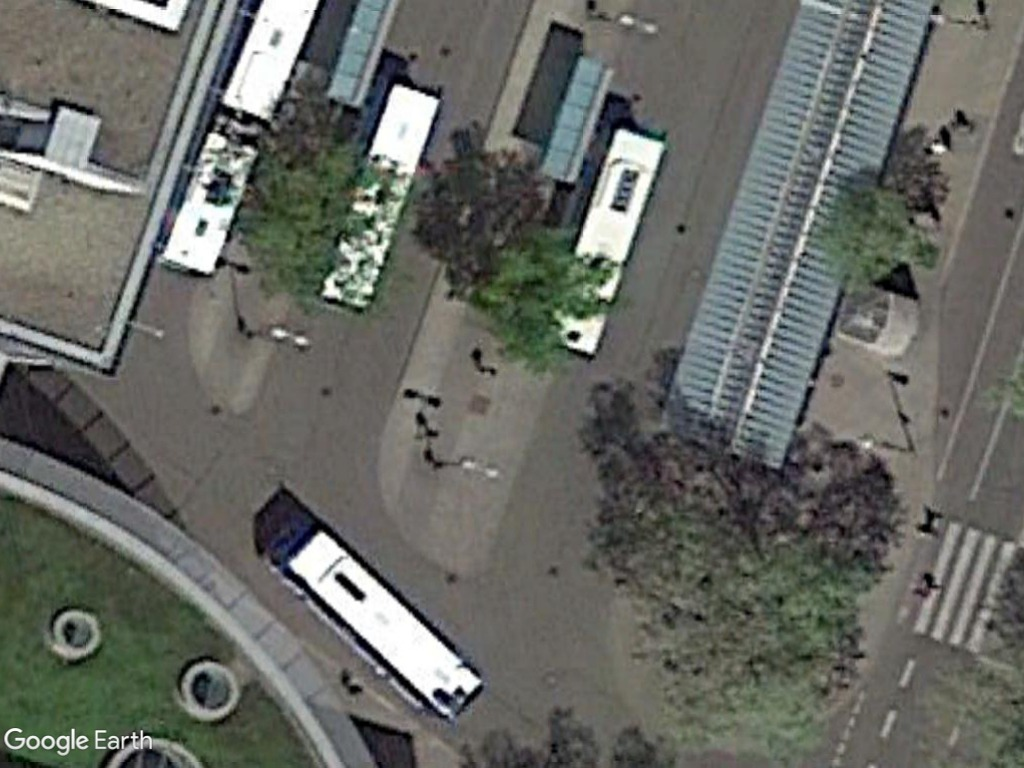bus: (269, 513, 489, 727), (313, 76, 445, 314), (542, 126, 665, 363), (151, 118, 261, 281)
